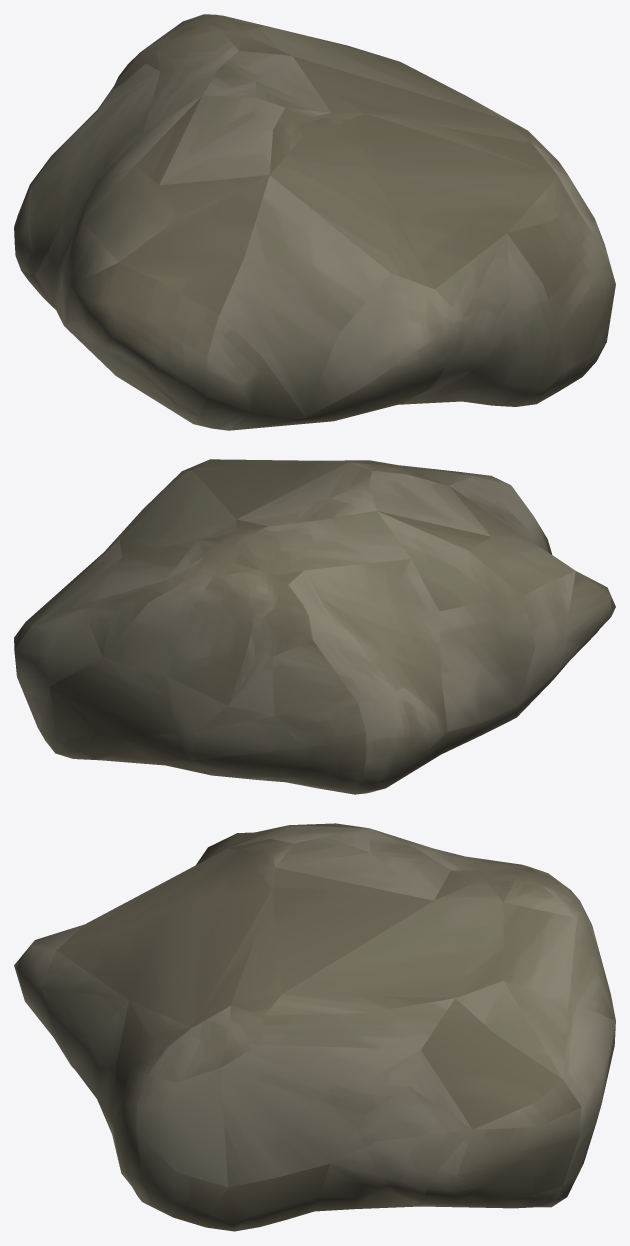
File: stone02.FBX
3 views of the same model, one above another, from view 1: azimuth 30°, elevation 25°; view 2: azimuth 150°, elevation 25°; view 3: azimuth 270°, elevation 25° (orthographic). The views are drawn at different scales.
Parts seen in each view (by area): view 1: stone01; view 2: stone01; view 3: stone01.
Boxes of the visible parts, x1,y1,x2,y2 form: stone01: (14, 14, 615, 430); stone01: (14, 459, 615, 794); stone01: (14, 823, 615, 1231).
Bounding box in the file's own units: 0.7219 × 0.371 × 0.7457.
